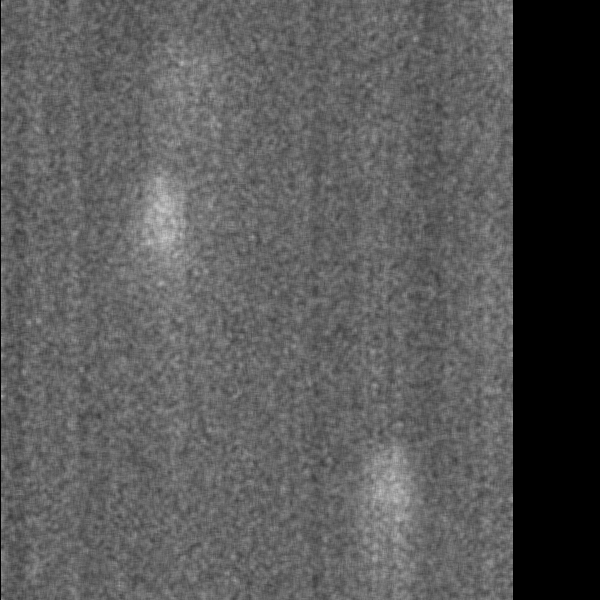spark: (352, 425, 432, 595), (133, 158, 191, 314)
